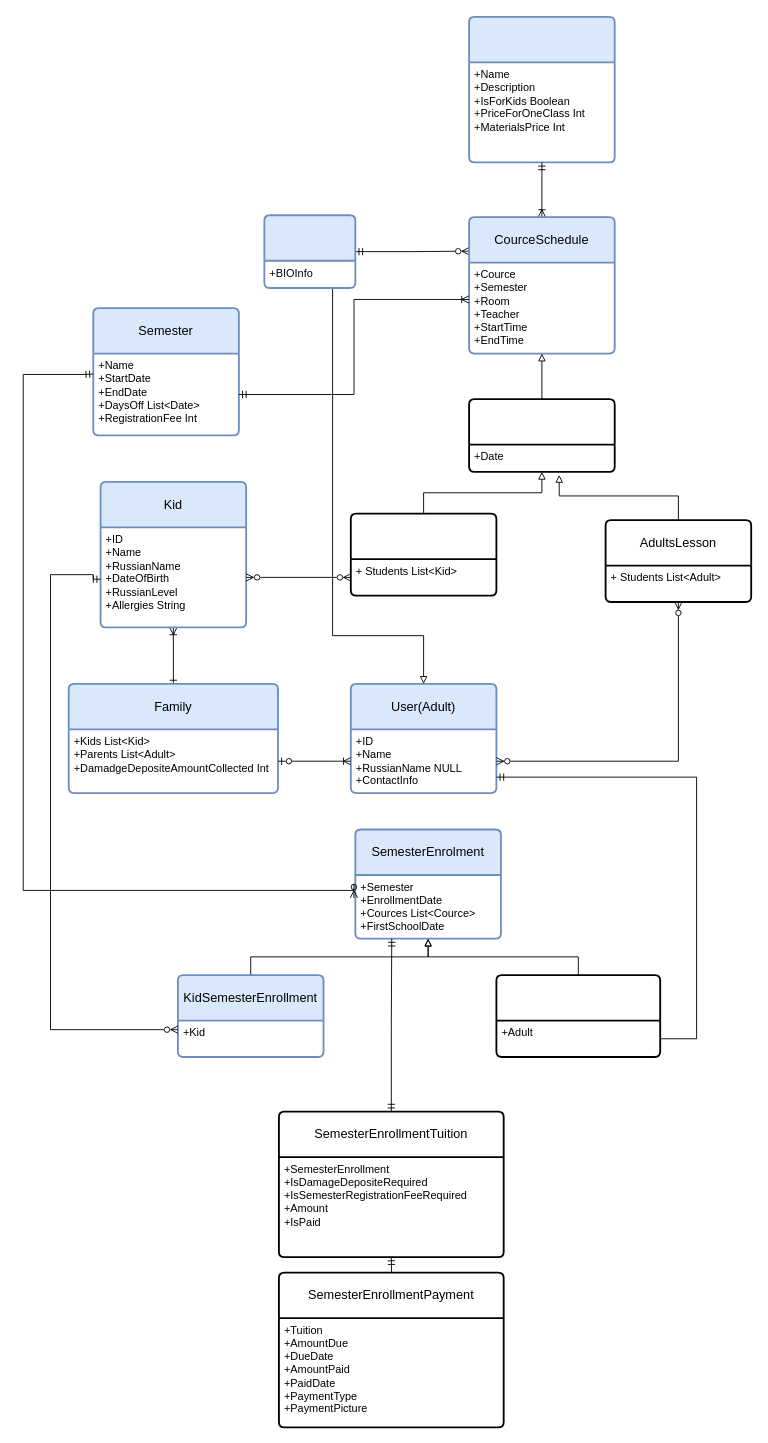
Image size: 768x1443. Some labels were removed from this diagram. Each missing label, with the box of its shape:
AdultSemesterEnrollment: (495, 974, 661, 1057)
Cource: (468, 15, 615, 163)
KidsLesson: (349, 512, 497, 596)
Lesson: (468, 398, 615, 472)
Teacher: (263, 214, 356, 288)
